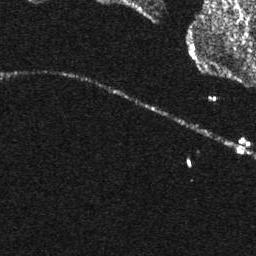ship: (237, 135, 251, 147), (185, 157, 194, 167)
